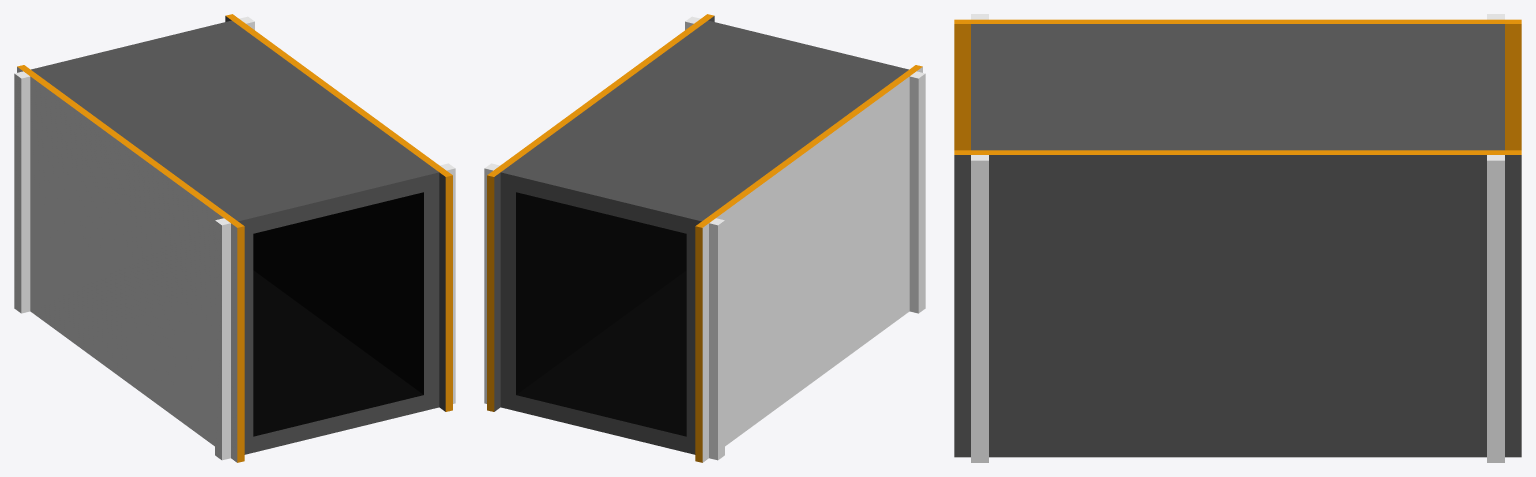
File: Decorations_boxOpen.fbx
3 views of the same model, side by side, from view 1: azimuth 30°, elevation 25°; view 2: azimuth 150°, elevation 25°; view 3: azimuth 270°, elevation 25° (orthographic). The views are drawn at different scales.
Visible parts, largest first — view 1: Container.Open; view 2: Container.Open; view 3: Container.Open.
Part boxes in pixels (x1,y1,x2,y2): Container.Open: [14, 14, 455, 462]; Container.Open: [484, 14, 925, 462]; Container.Open: [954, 14, 1521, 462].
Size of the model in its own units: 1040 by 1000 by 1700.
1 material, 1 textured.
